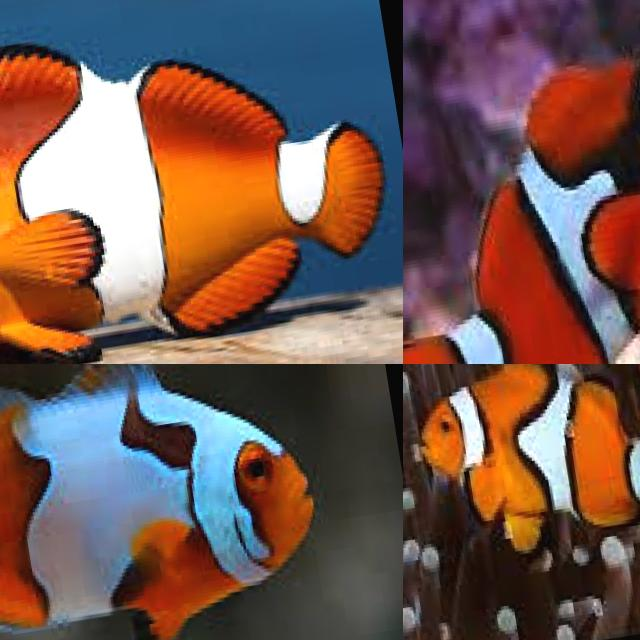Amphiprion-percula: (0, 0, 403, 364), (0, 364, 361, 640), (403, 0, 640, 364), (403, 364, 640, 597), (542, 364, 640, 547)
